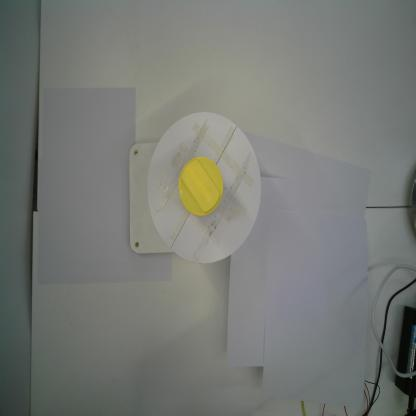Canned Food: (178, 155, 224, 218)
